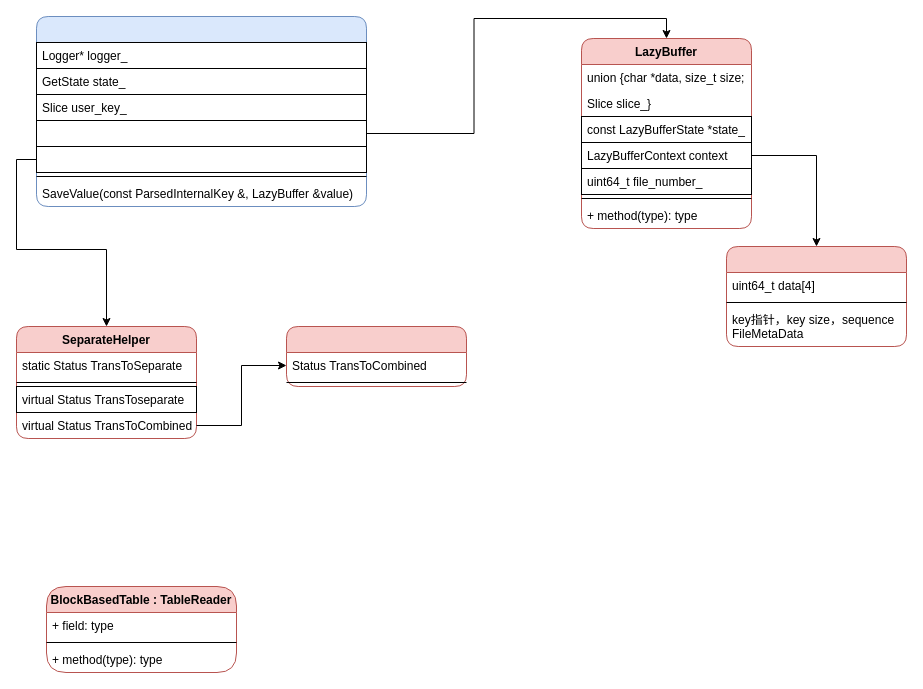
The diagram is 923 pixels wide and 689 high, and some of its shapes have lost their labels. Each missing label, with the box of its shape:
const SeparateHelper *separate_helper_: (36, 146, 366, 172)
GetContex: (36, 16, 366, 206)
LazyBuffer *lazy_val_: (36, 120, 366, 146)
LazyBufferContext: (726, 246, 906, 346)
Version: (286, 326, 466, 386)
